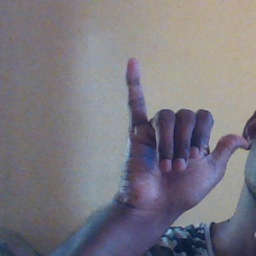J: (117, 55, 251, 210)
